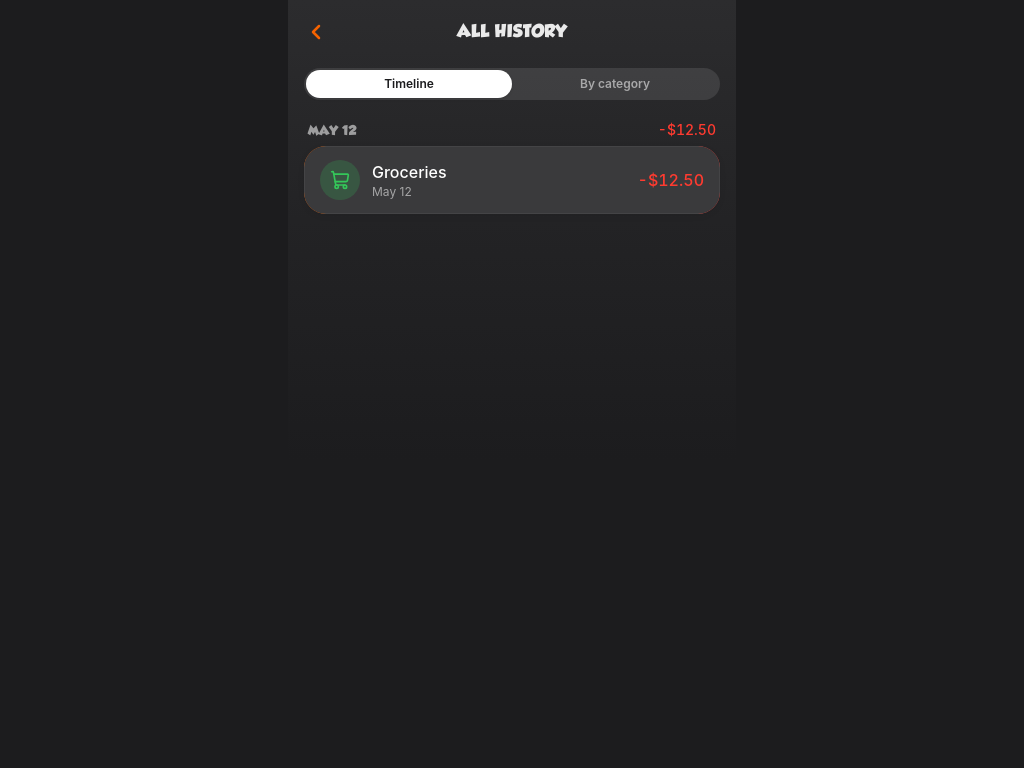
History › shows an empty message in the category view for a quiet month
Click the tab "By category" at (615, 84), box left=512, top=70, right=718, bottom=98
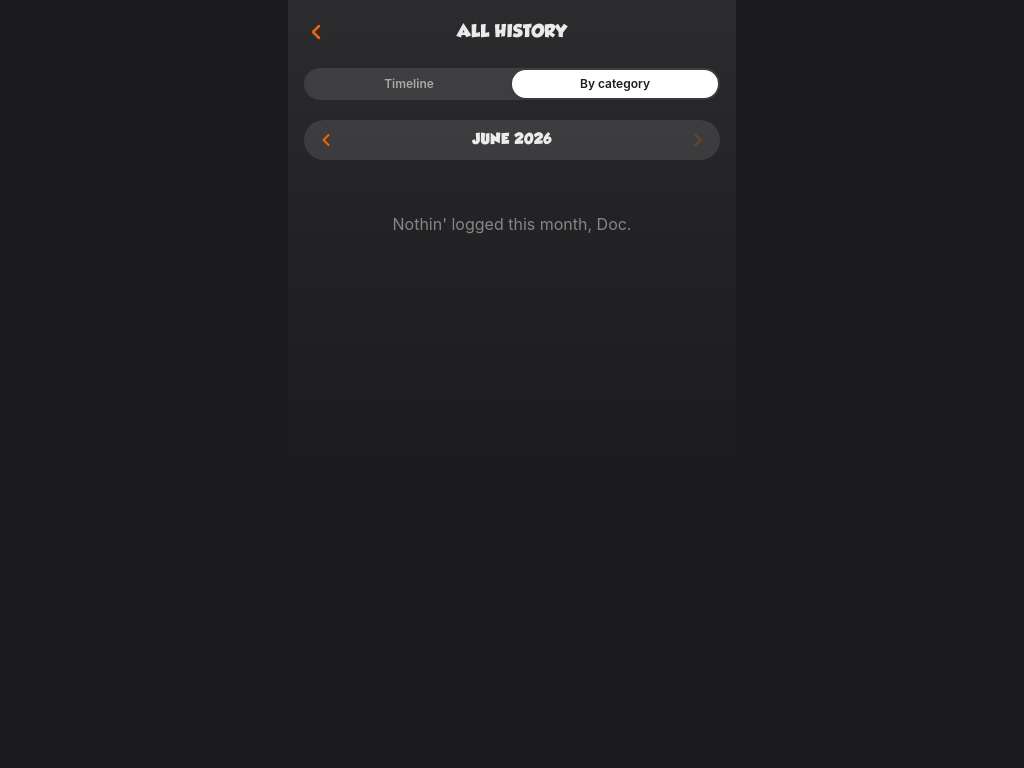
Expected: the text "June 2026" is shown, left=472, top=130, right=552, bottom=150
Expected: the text "Nothin' logged this month, Doc." is shown, left=392, top=214, right=632, bottom=234
